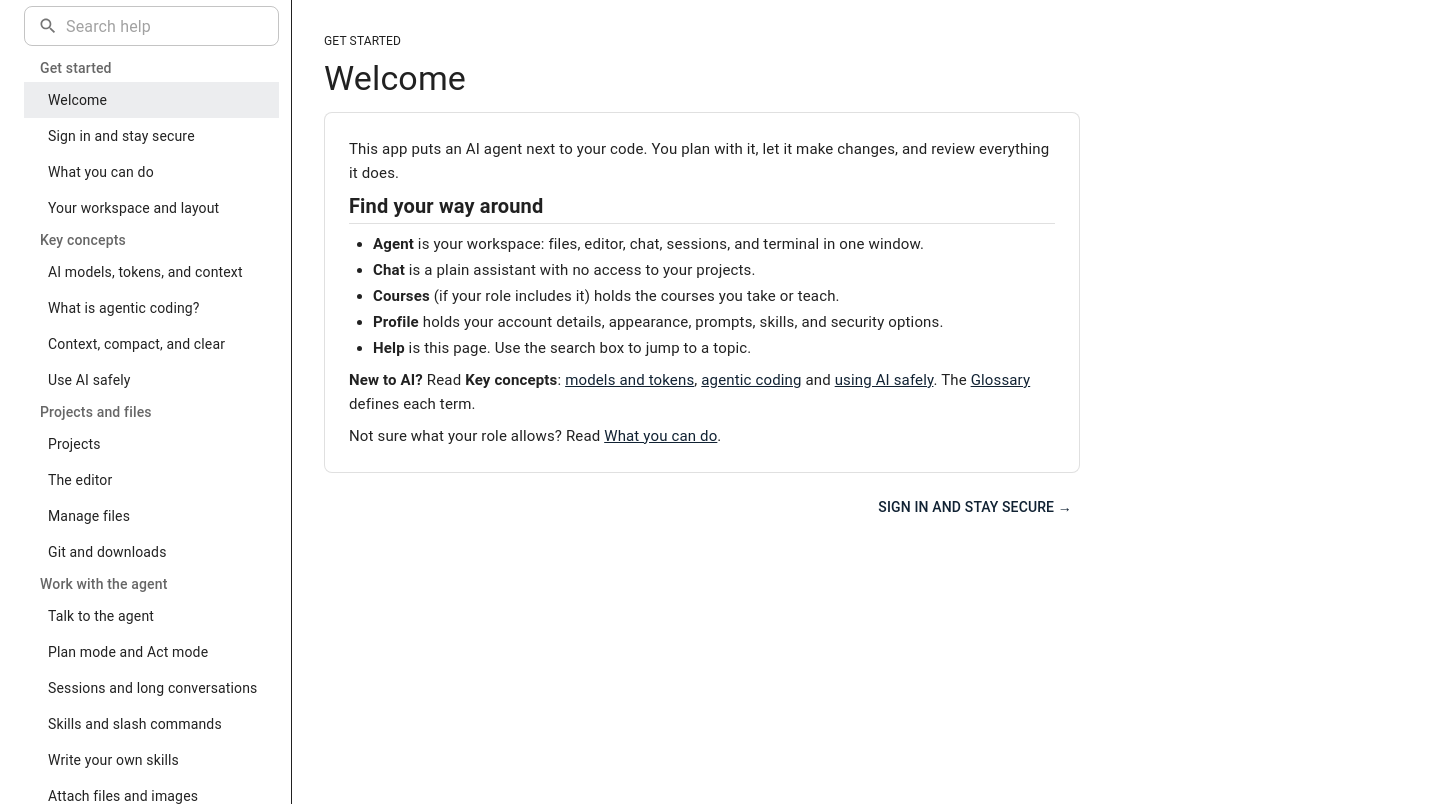
Test case: Help page › links between topics navigate inside the page and never open a new tab
This screenshot has width=1452, height=804.
What coordinates should you click on to do the following:
click the link "What you can do" next to "Not sure what your role allows? Read"
I would click on:
 (661, 436)
Its box is [604,427,717,445].
(page scrolled)
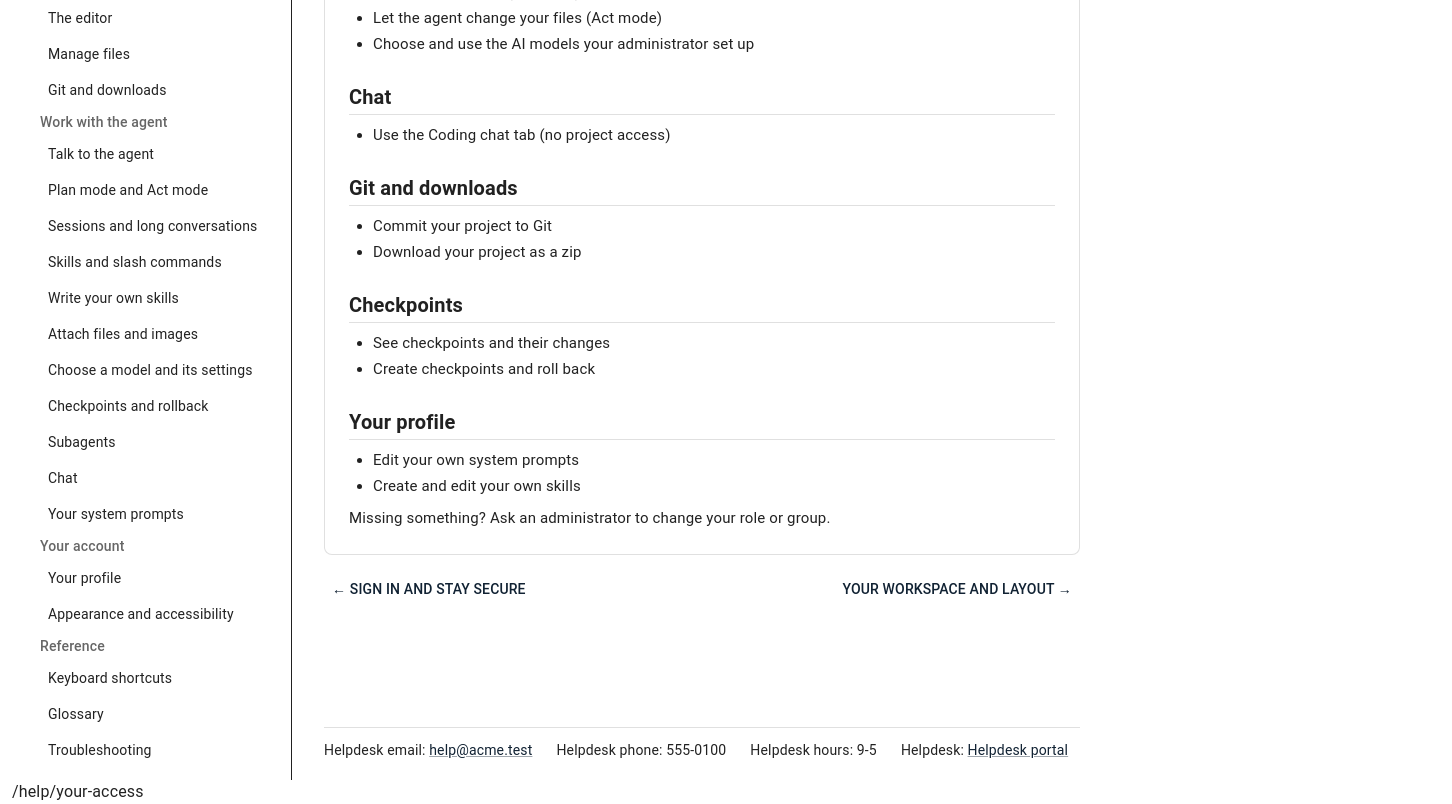
Expected: the text with test id "where" reads "/help/your-access", [12,782,144,801]
